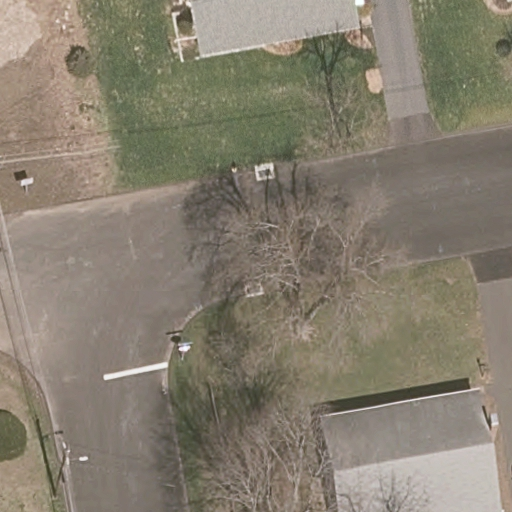DT: (51, 440, 70, 497)
